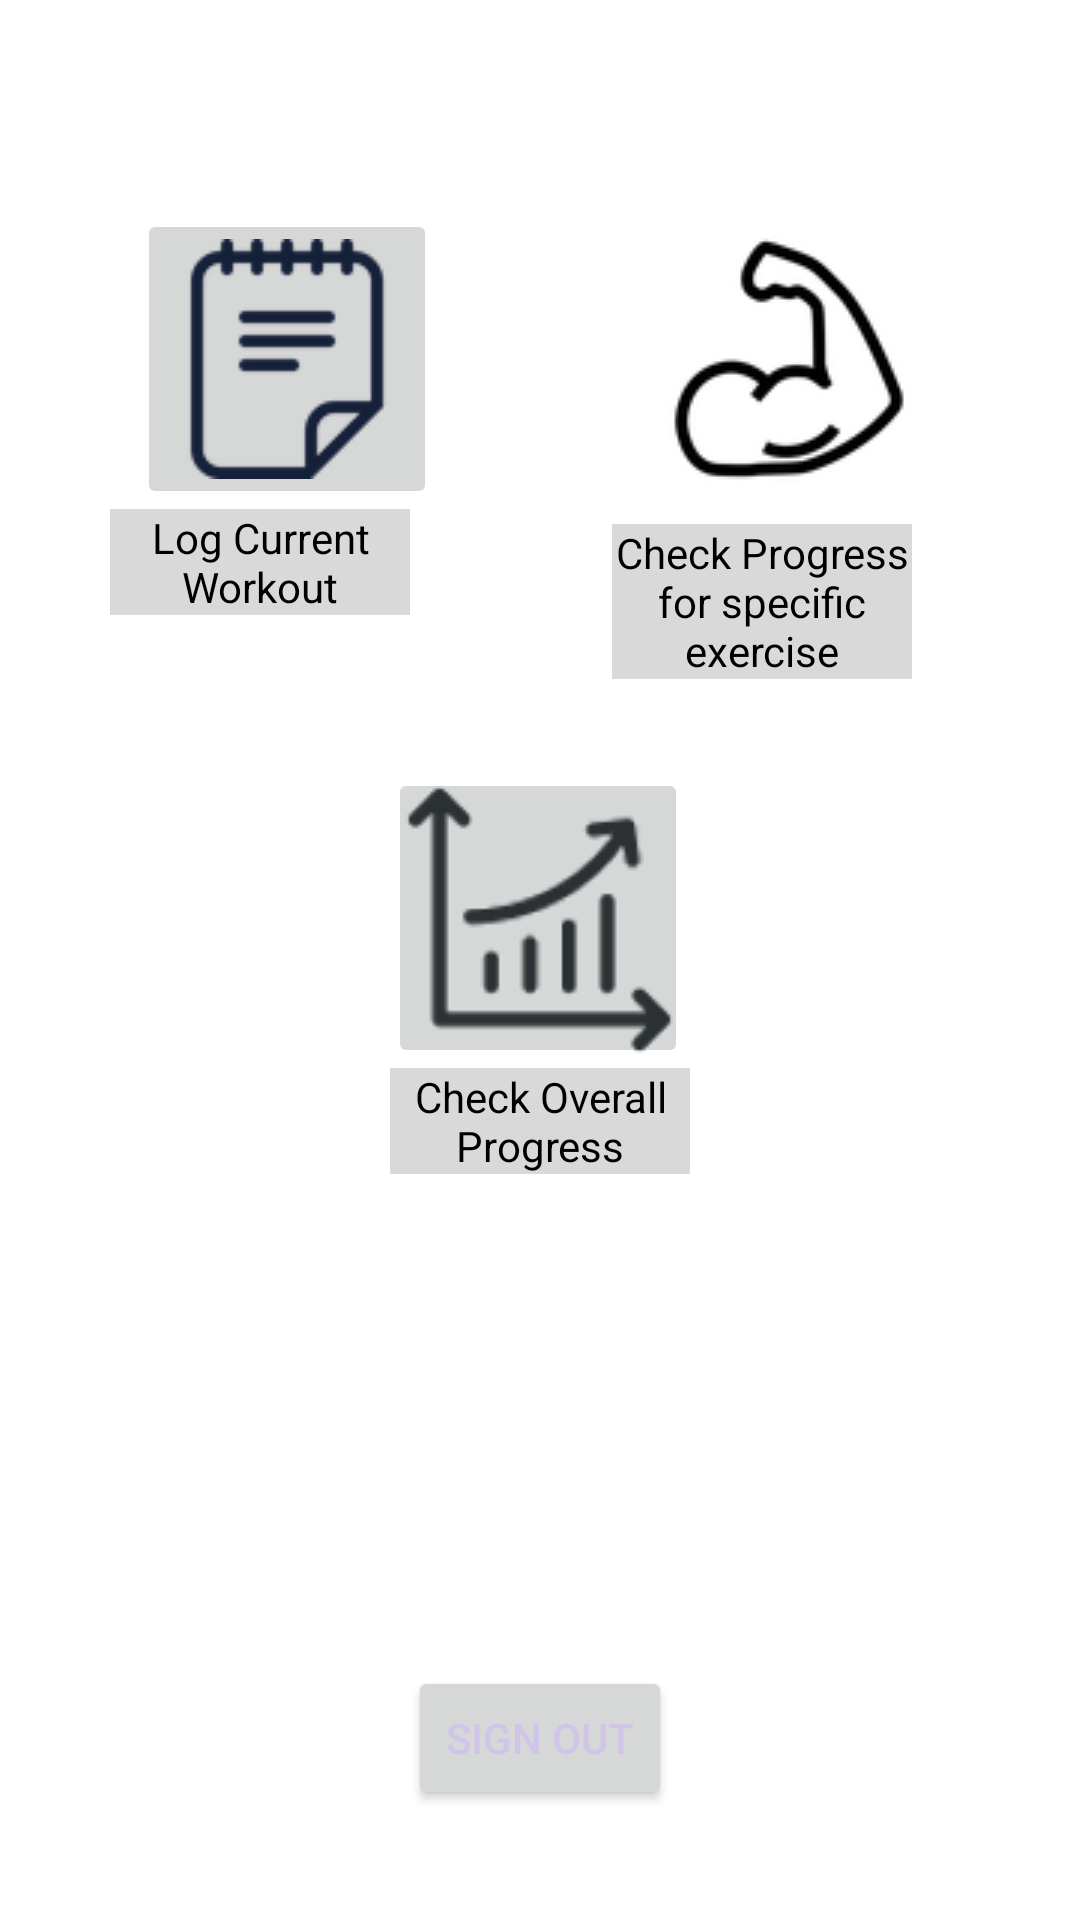

Screen size 1080w x 1920h. Icon name, then its box in pixels as (x1=x1, y1=y1, x2=x2, y2=y2):
arm: (x1=674, y1=239, x2=904, y2=479)
graph: (x1=400, y1=786, x2=676, y2=1053)
notepad: (x1=149, y1=227, x2=425, y2=491)
